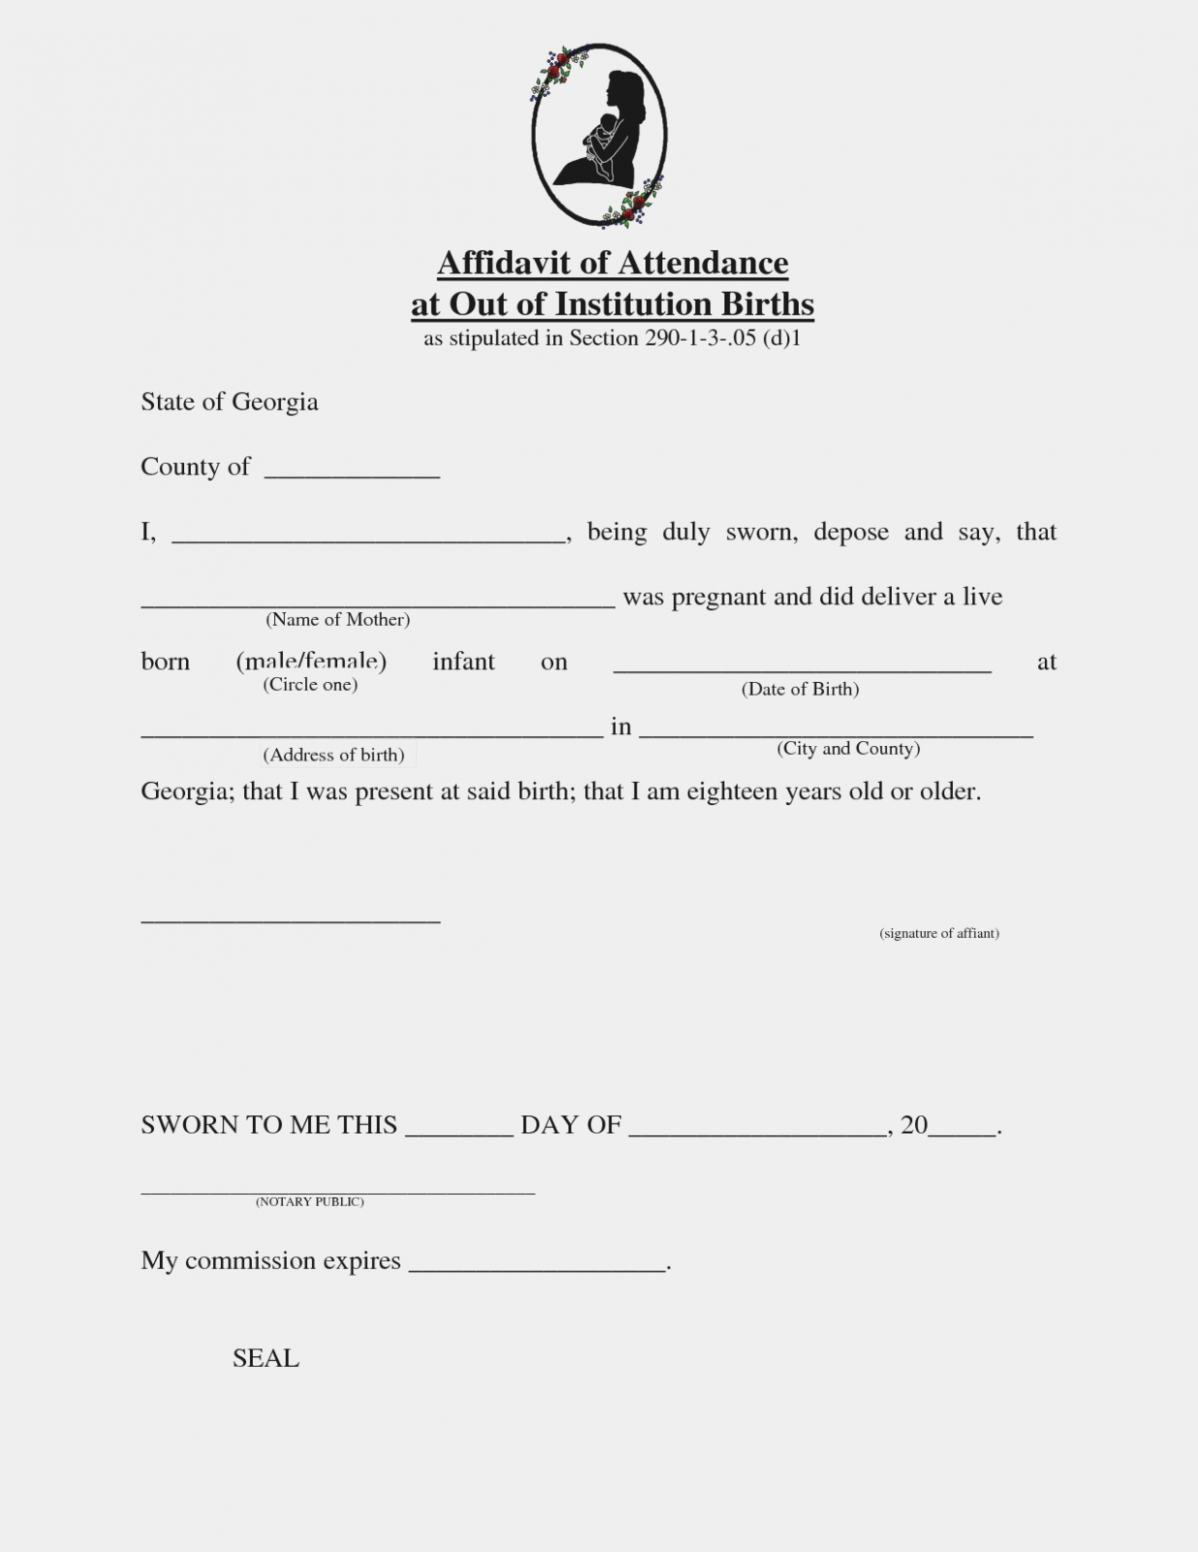textline: (128, 707, 609, 746), (118, 1169, 541, 1212), (133, 583, 623, 617), (167, 512, 578, 551), (136, 892, 469, 938), (399, 1239, 686, 1290), (635, 720, 1051, 751), (607, 655, 997, 678), (259, 446, 456, 492), (620, 1116, 900, 1143), (401, 1111, 520, 1145), (927, 1116, 1029, 1150)
